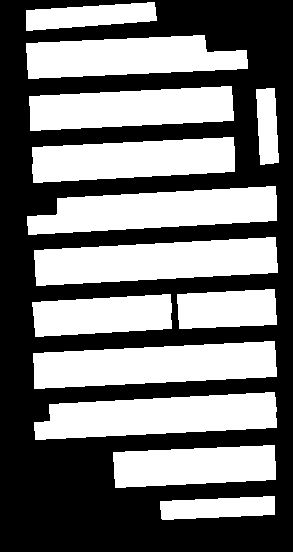parkingspot: (27, 203, 276, 234), (34, 237, 276, 268), (35, 254, 277, 285), (33, 341, 275, 371), (34, 358, 276, 388), (34, 409, 276, 439), (49, 392, 276, 422), (57, 186, 276, 215), (27, 50, 247, 78), (32, 153, 234, 182), (29, 86, 232, 114), (30, 102, 233, 130), (32, 137, 234, 165), (26, 35, 206, 62), (114, 461, 275, 487), (113, 445, 274, 470), (26, 2, 156, 30), (32, 294, 171, 320), (34, 311, 171, 336), (160, 496, 274, 519), (177, 289, 275, 312), (178, 306, 276, 328), (256, 88, 278, 164)
